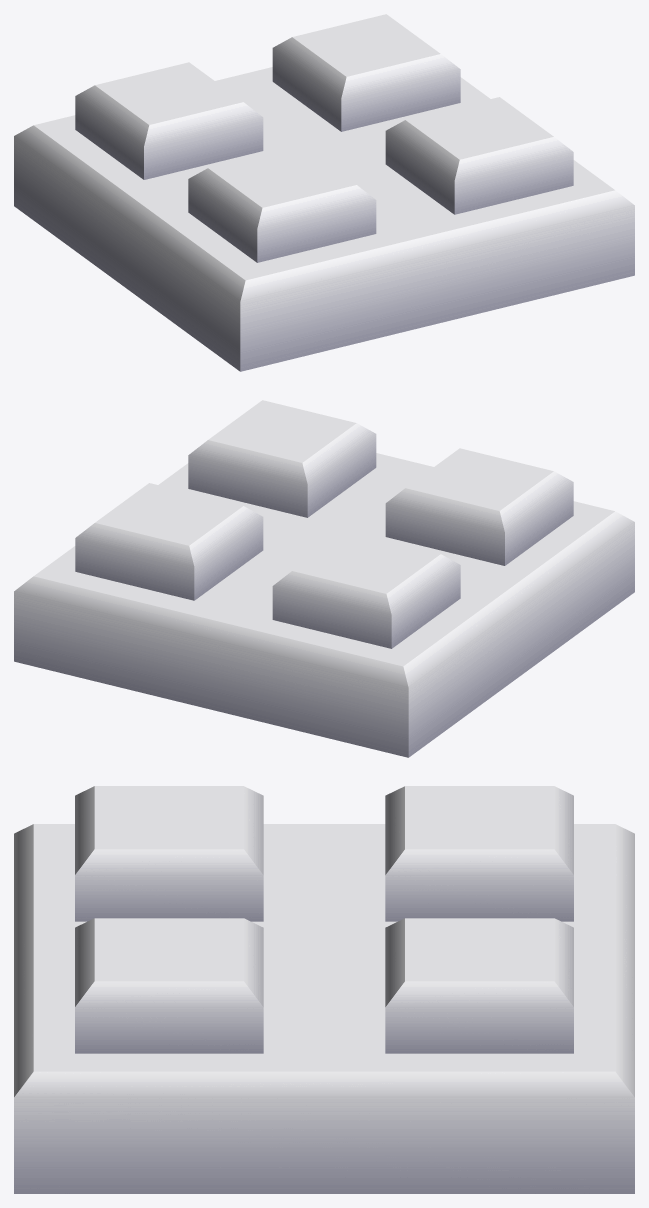
The model's file is brick-kit--square-hq-plate-2x2.glb.
3 renders of one model, top to bottom at view 1: azimuth 30°, elevation 25°; view 2: azimuth 150°, elevation 25°; view 3: azimuth 270°, elevation 25°, orthographic. The views are drawn at different scales.
Parts seen in each view (by area): view 1: square-hq-plate-2x2; view 2: square-hq-plate-2x2; view 3: square-hq-plate-2x2.
Part boxes in pixels (x1,y1,x2,y2): square-hq-plate-2x2: (14,14,634,371); square-hq-plate-2x2: (14,400,634,757); square-hq-plate-2x2: (14,786,634,1193).
Size of the model in its own units: 0.159 by 0.05 by 0.158.
Materials: 1 (1 with a texture image).
